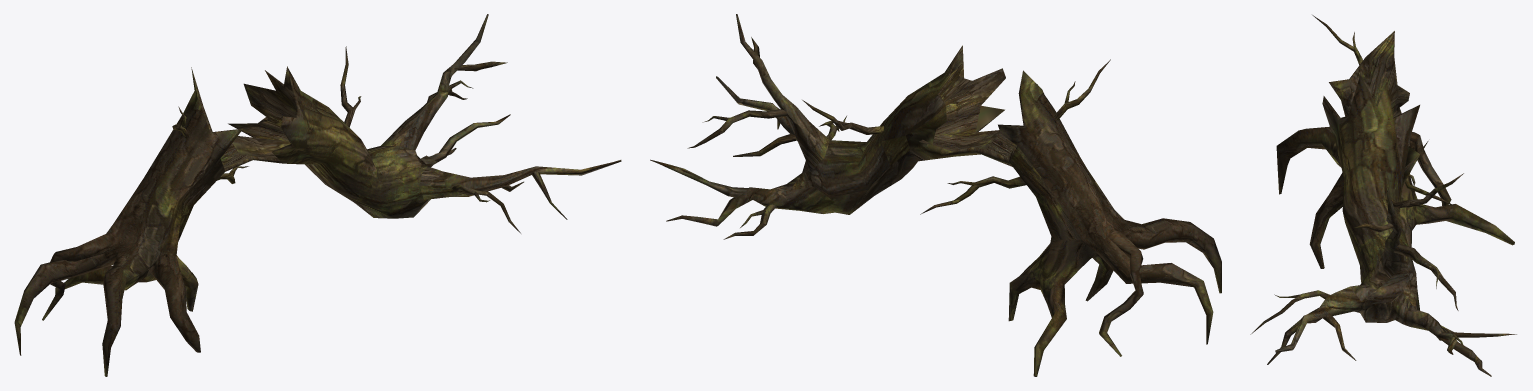
File: BossWood3.fbx
The picture shows the model from 3 angles, left to right: view 1: azimuth 30°, elevation 25°; view 2: azimuth 150°, elevation 25°; view 3: azimuth 270°, elevation 25°; orthographic projection.
Parts seen in each view (by area): view 1: BossWood3; view 2: BossWood3; view 3: BossWood3.
Boxes of the visible parts, box(x1,y1,x2,y2) form: BossWood3: box(14, 14, 621, 376); BossWood3: box(650, 14, 1221, 376); BossWood3: box(1250, 15, 1516, 376).
Size of the model in its own units: 27.01 by 11.74 by 11.35.
